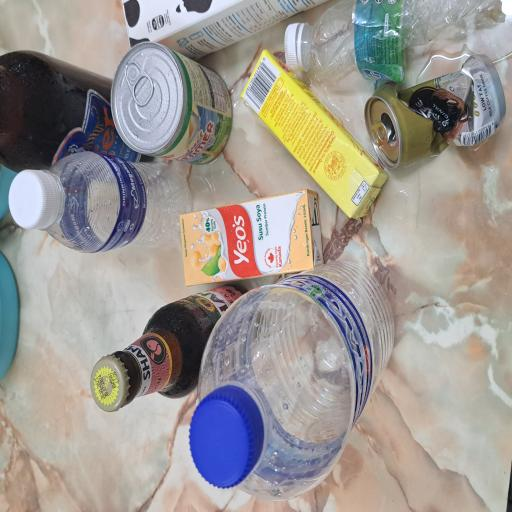can: (262, 149, 357, 306)
drink carton: (222, 319, 346, 511), (170, 237, 246, 438), (348, 157, 384, 440)
glass bottle: (81, 120, 174, 339), (248, 0, 351, 196)
plastic bottle: (9, 270, 183, 512), (196, 70, 268, 268), (317, 403, 384, 512)
plastic bottle cap: (20, 253, 93, 348), (211, 15, 256, 74), (330, 374, 370, 404)
pop tab: (306, 160, 337, 206), (271, 489, 292, 512)
